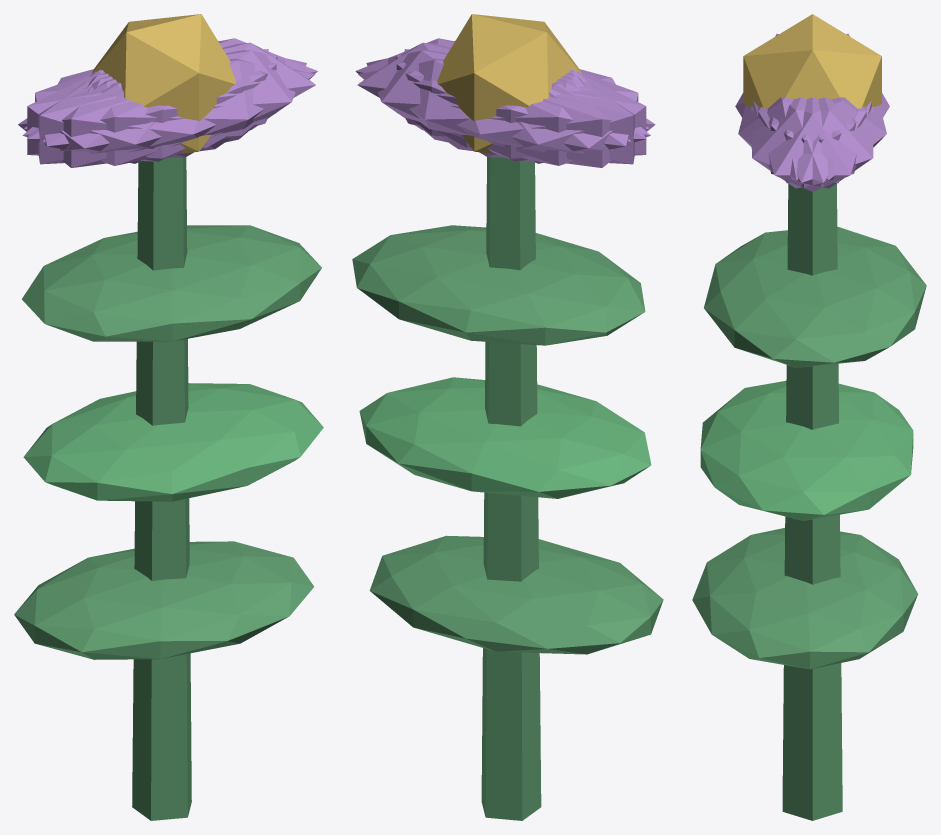
The model's file is theobroma-cacao.glb.
3 views of the same model, side by side, from view 1: azimuth 30°, elevation 25°; view 2: azimuth 150°, elevation 25°; view 3: azimuth 270°, elevation 25° (orthographic).
Visible parts, largest first — view 1: leaf0, leaf2, leaf1, stem, center, petal1, petal6, petal2, petal5, petal7, petal0, petal4 (+2 smaller); view 2: leaf2, leaf0, leaf1, stem, center, petal8, petal3, petal7, petal4, petal2, petal0, petal5 (+2 smaller); view 3: leaf2, leaf1, leaf0, stem, center, petal0, petal5, petal4, petal1, petal8.
Part boxes in pixels (x1,y1,x2,y2): leaf0: (14, 541, 314, 659); leaf2: (22, 225, 321, 341); leaf1: (23, 383, 323, 501); stem: (132, 157, 191, 820); center: (91, 14, 235, 153); petal1: (22, 58, 314, 165); petal6: (18, 71, 229, 167); petal2: (38, 49, 268, 164); petal5: (42, 50, 306, 158); petal7: (27, 55, 277, 161); petal0: (91, 42, 315, 148); petal4: (24, 38, 317, 139); leaf2: (352, 225, 645, 345); leaf0: (369, 535, 663, 654); leaf1: (359, 377, 651, 498); stem: (481, 157, 541, 820); center: (437, 14, 581, 153); petal8: (358, 58, 650, 165); petal3: (443, 71, 655, 167); petal7: (404, 49, 634, 164); petal4: (366, 50, 630, 158); petal2: (396, 55, 646, 161); petal0: (357, 42, 581, 148); petal5: (355, 38, 649, 139); leaf2: (704, 226, 926, 367); leaf1: (700, 381, 913, 520); leaf0: (692, 528, 917, 669); stem: (782, 183, 842, 820); center: (743, 14, 881, 108); petal0: (753, 97, 871, 191); petal5: (751, 97, 866, 188); petal4: (758, 97, 873, 188); petal1: (738, 97, 856, 180); petal8: (769, 97, 886, 180).
Bounding box in the file's own units: 0.1452 × 0.3782 × 0.1037.
